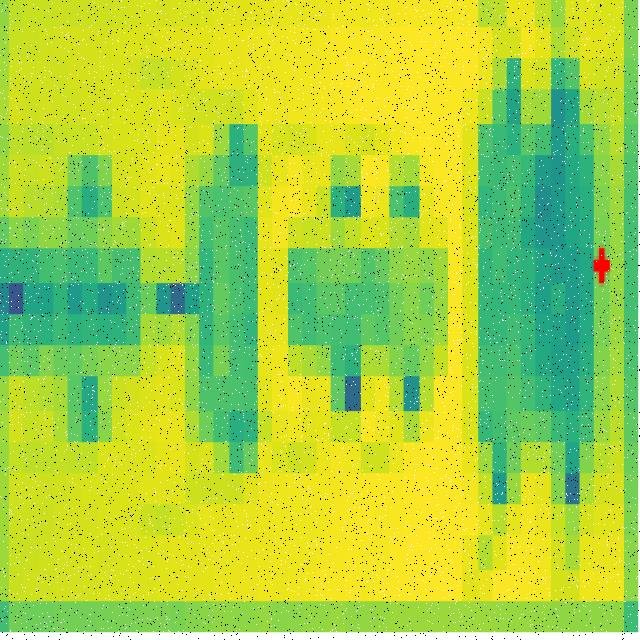Concrete: (5, 216, 146, 388)
Glass: (476, 121, 596, 454)
Metal: (185, 168, 273, 446)
Wood: (286, 243, 452, 382)
